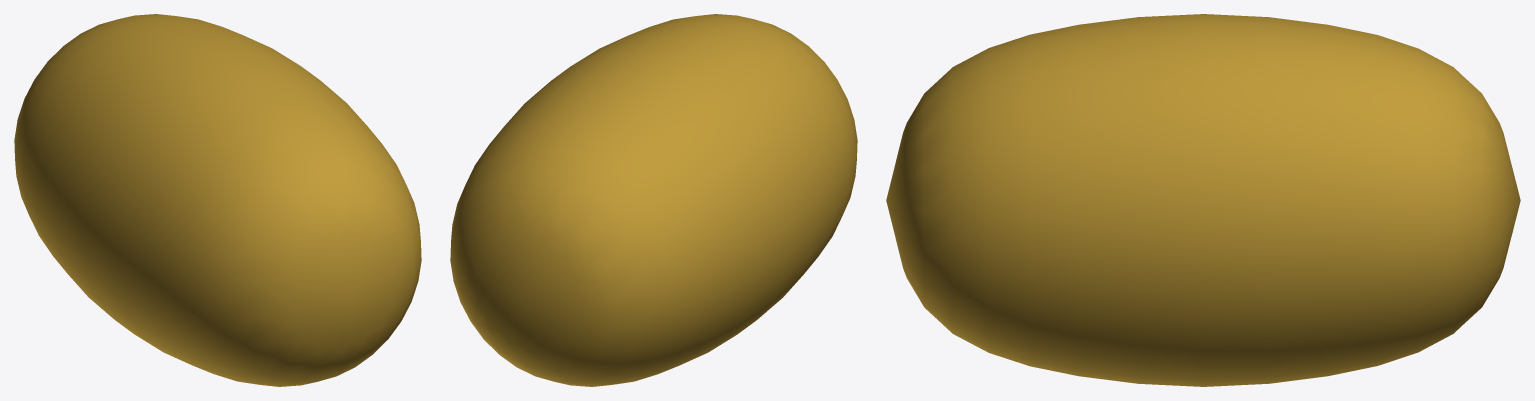
3 views of the same model, side by side, from view 1: azimuth 30°, elevation 25°; view 2: azimuth 150°, elevation 25°; view 3: azimuth 270°, elevation 25° (orthographic). The views are drawn at different scales.
Visible parts, largest first — view 1: 左侧三叉神经运动根; view 2: 左侧三叉神经运动根; view 3: 左侧三叉神经运动根.
Part boxes in pixels (x1,y1,x2,y2): 左侧三叉神经运动根: (14, 14, 421, 386); 左侧三叉神经运动根: (450, 14, 857, 386); 左侧三叉神经运动根: (886, 14, 1520, 386).
Size of the model in its own units: 0.0028 by 0.0028 by 0.00476.
